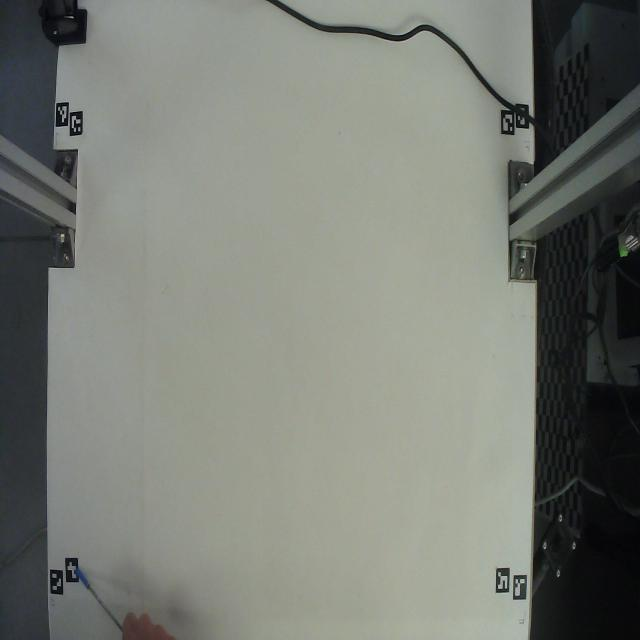Pres: (64, 517, 177, 640)
